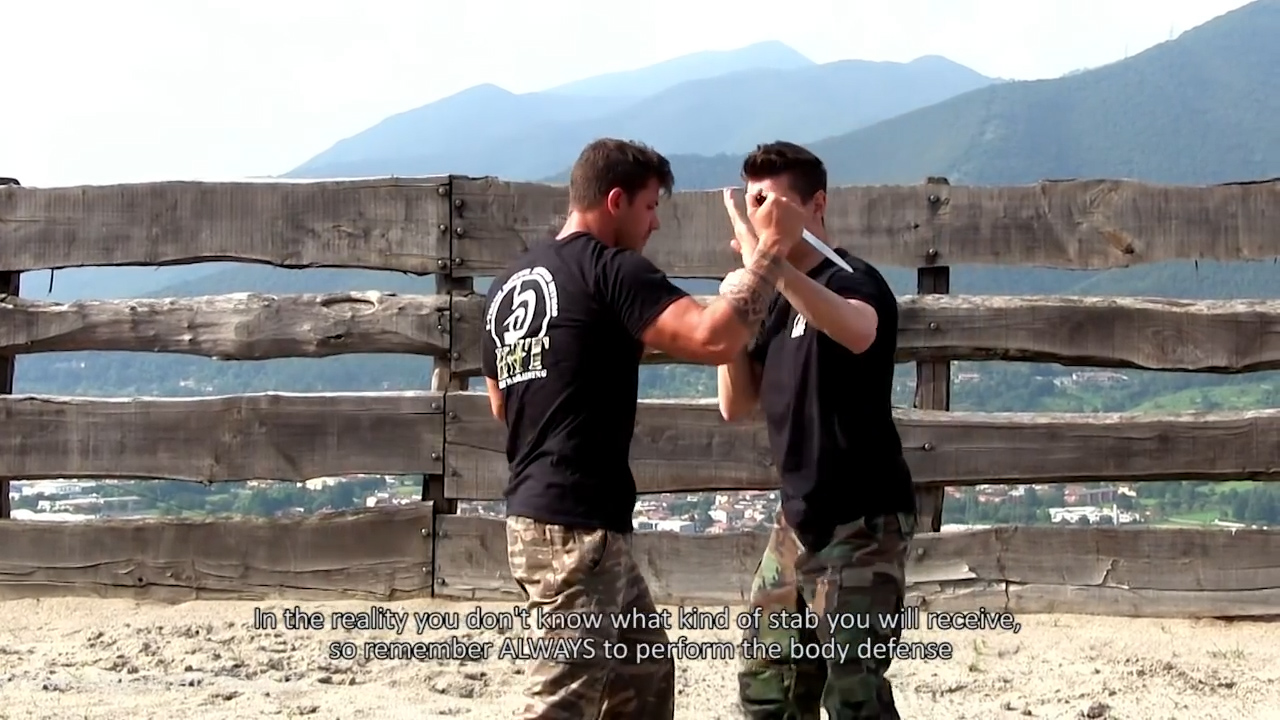knife: (746, 187, 861, 278)
